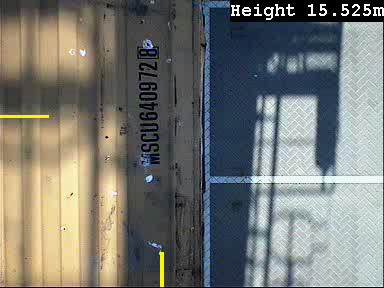groundmarker_2: (205, 162, 241, 236), (191, 19, 235, 48)
